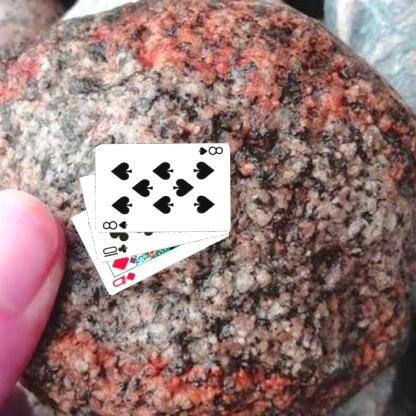10C: (99, 242, 129, 258)
8S: (100, 218, 128, 231), (196, 144, 224, 156)
QD: (109, 270, 137, 289)
